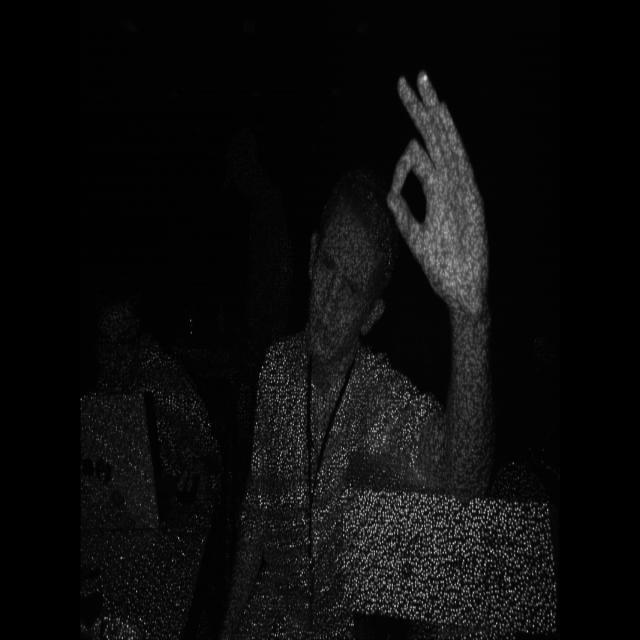F: (378, 60, 521, 329)
